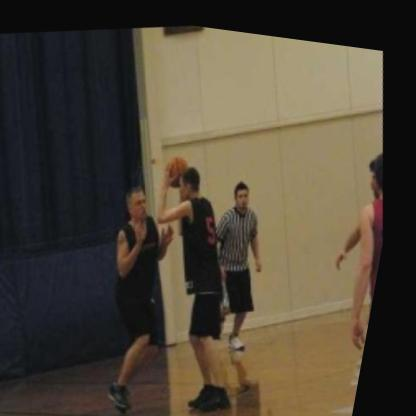basketball: (164, 149, 194, 184)
